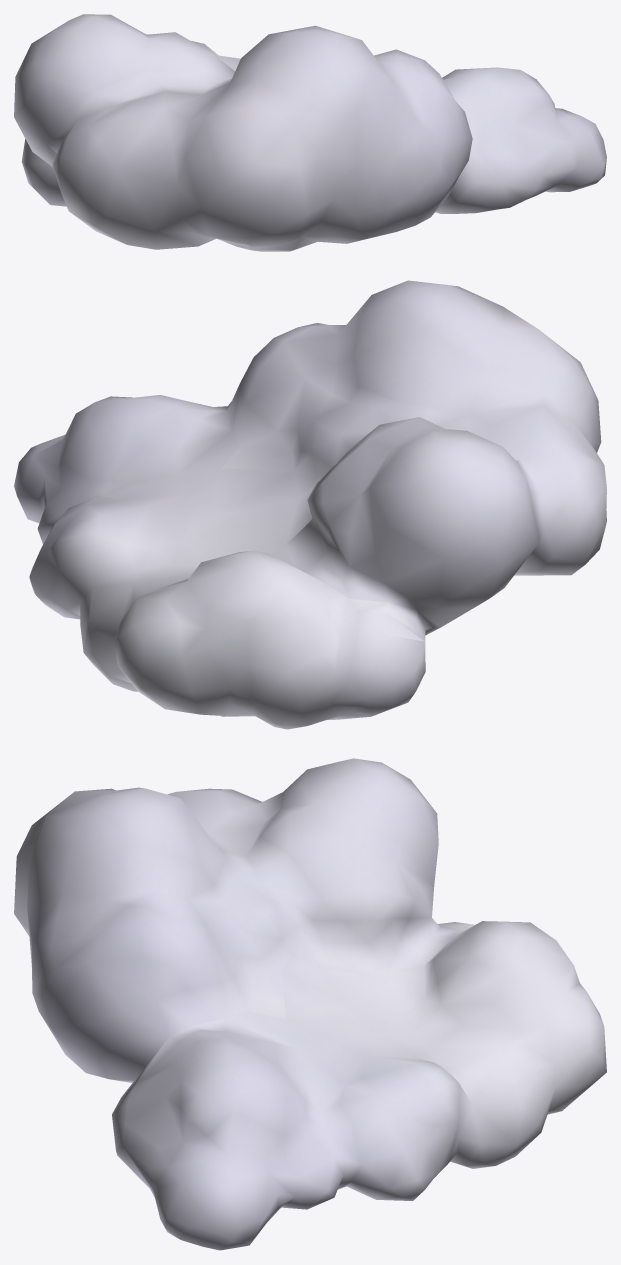
File: OP_KD_Cloud_15a.FBX
3 views of the same model, one above another, from view 1: azimuth 30°, elevation 25°; view 2: azimuth 150°, elevation 25°; view 3: azimuth 270°, elevation 25° (orthographic). The views are drawn at different scales.
Visible parts, largest first — view 1: OP_KD_Cloud_15a; view 2: OP_KD_Cloud_15a; view 3: OP_KD_Cloud_15a.
Boxes of the visible parts, left/top/right/bottom form: OP_KD_Cloud_15a: left=14, top=14, right=606, bottom=251; OP_KD_Cloud_15a: left=14, top=280, right=606, bottom=729; OP_KD_Cloud_15a: left=14, top=758, right=606, bottom=1250.
Bounding box in the file's own units: 13576 × 6712 × 11496.
